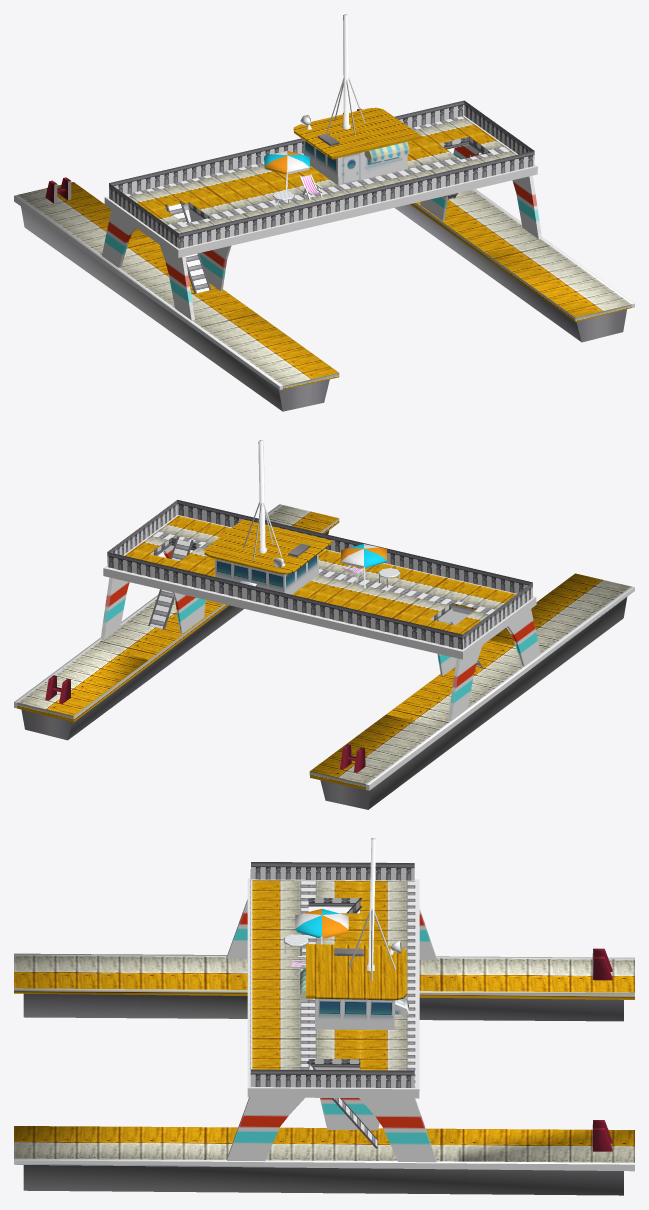
Rendered from tugboat-past.glb.
The picture shows the model from 3 angles, top to bottom: view 1: azimuth 30°, elevation 25°; view 2: azimuth 150°, elevation 25°; view 3: azimuth 270°, elevation 25°; orthographic projection. The views are drawn at different scales.
Parts seen in each view (by area): view 1: tugboat_polygon0.706, tugboat_parasol_polygon2.002; view 2: tugboat_polygon0.706, tugboat_parasol_polygon2.002; view 3: tugboat_polygon0.706, tugboat_parasol_polygon2.002.
Boxes of the visible parts, <box> form: tugboat_polygon0.706: <box>14,14,634,411</box>; tugboat_parasol_polygon2.002: <box>264,151,309,191</box>; tugboat_polygon0.706: <box>14,440,634,809</box>; tugboat_parasol_polygon2.002: <box>341,544,386,588</box>; tugboat_polygon0.706: <box>14,838,634,1195</box>; tugboat_parasol_polygon2.002: <box>295,909,348,944</box>.
Size of the model in its own units: 2.04 by 1.31 by 2.61.
4 materials, 4 textured.
